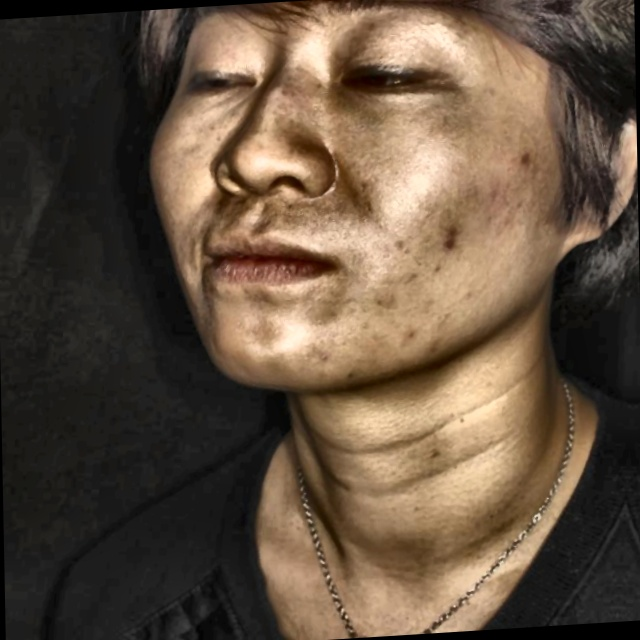comedone: (430, 219, 466, 255), (505, 143, 540, 177)
